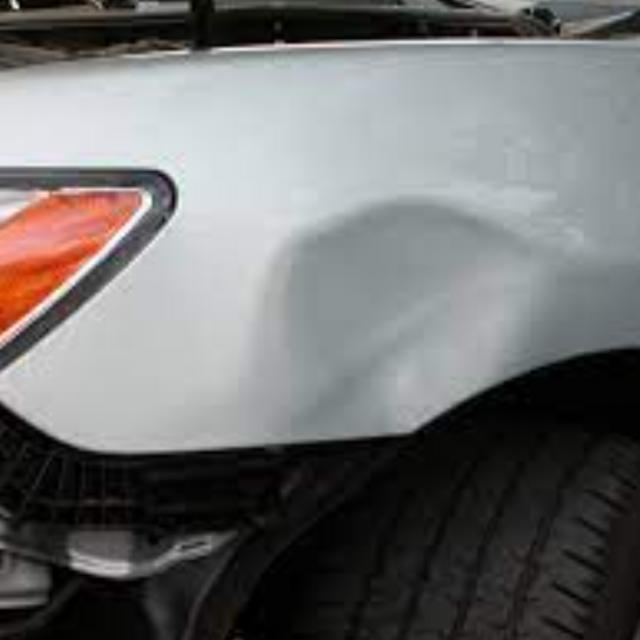dents: (288, 202, 507, 379)
